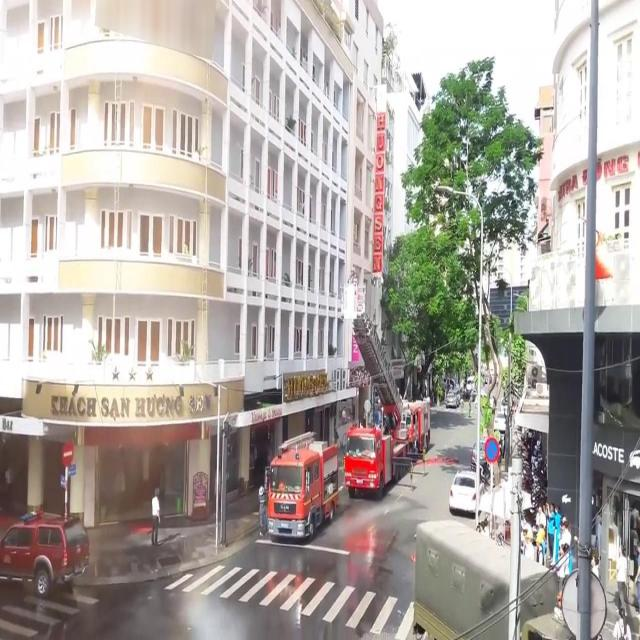car: (0, 508, 89, 596), (449, 468, 475, 511)
truck: (412, 518, 574, 640), (343, 285, 409, 499), (266, 431, 338, 539)
